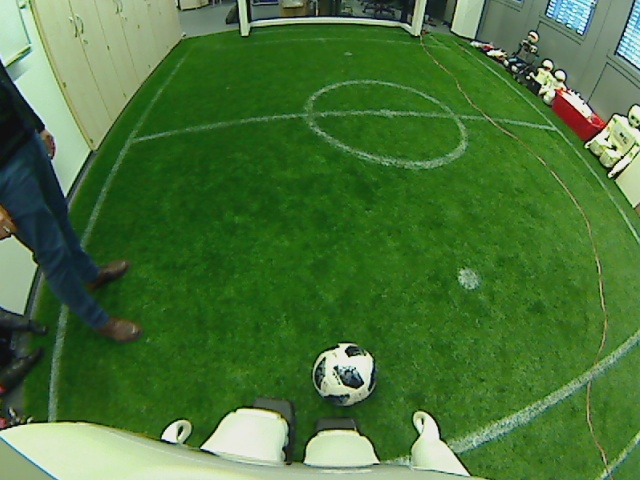ball: (308, 340, 377, 406)
